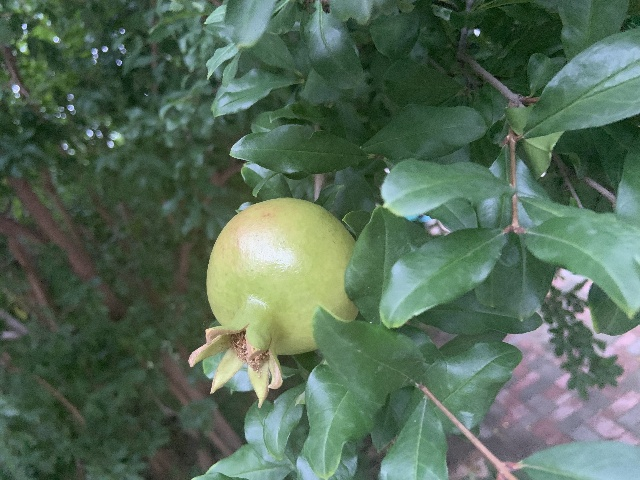mid-growth: (187, 196, 358, 407)
